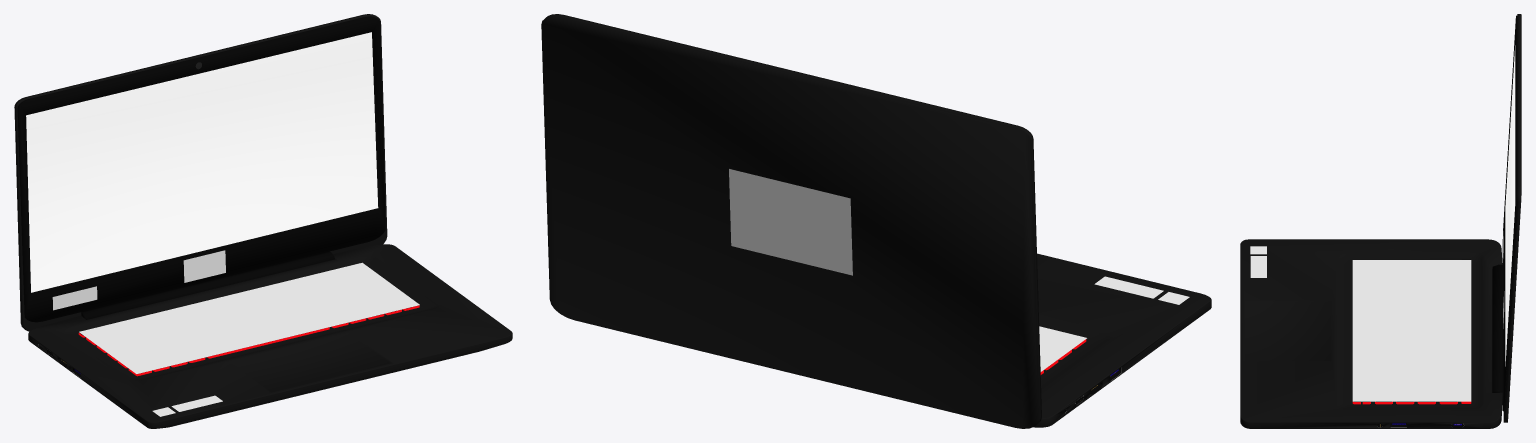
File: laptop.glb
3 renders of one model, left to right at view 1: azimuth 30°, elevation 25°; view 2: azimuth 150°, elevation 25°; view 3: azimuth 270°, elevation 25°, orthographic. The views are drawn at different scales.
Visible parts, largest first — view 1: OLED Screen, Body, Keycaps lable 3, Screen, Hinge, Acer-Logo_2011, Keyboard, Full HD Sticker; view 2: Screen, Body, Acer-Logo_2011.001, Keycaps lable 3, RTX Sticker; view 3: Body, Keycaps lable 3, OLED Screen, Screen, Hinge, Keyboard, RTX Sticker.
Part boxes in pixels (box(x1,y1,x2,y2)): OLED Screen: box(17, 16, 385, 322); Body: box(28, 244, 512, 428); Keycaps lable 3: box(79, 262, 419, 373); Screen: box(14, 14, 387, 331); Hinge: box(81, 251, 334, 319); Acer-Logo_2011: box(183, 250, 225, 282); Keyboard: box(78, 305, 419, 376); Full HD Sticker: box(52, 286, 97, 310); Screen: box(541, 14, 1041, 428); Body: box(1033, 253, 1211, 427); Acer-Logo_2011.001: box(729, 169, 852, 275); Keycaps lable 3: box(1039, 326, 1086, 371); RTX Sticker: box(1094, 276, 1163, 298); Body: box(1240, 239, 1502, 428); Keycaps lable 3: box(1352, 260, 1471, 401); OLED Screen: box(1502, 15, 1517, 411); Screen: box(1503, 14, 1521, 422); Hinge: box(1492, 264, 1502, 392); Keyboard: box(1352, 259, 1471, 404); RTX Sticker: box(1250, 256, 1266, 277).
Size of what is drawn, in the model's own units: 3.31 by 2.06 by 2.15.
15 materials, 4 textured.
